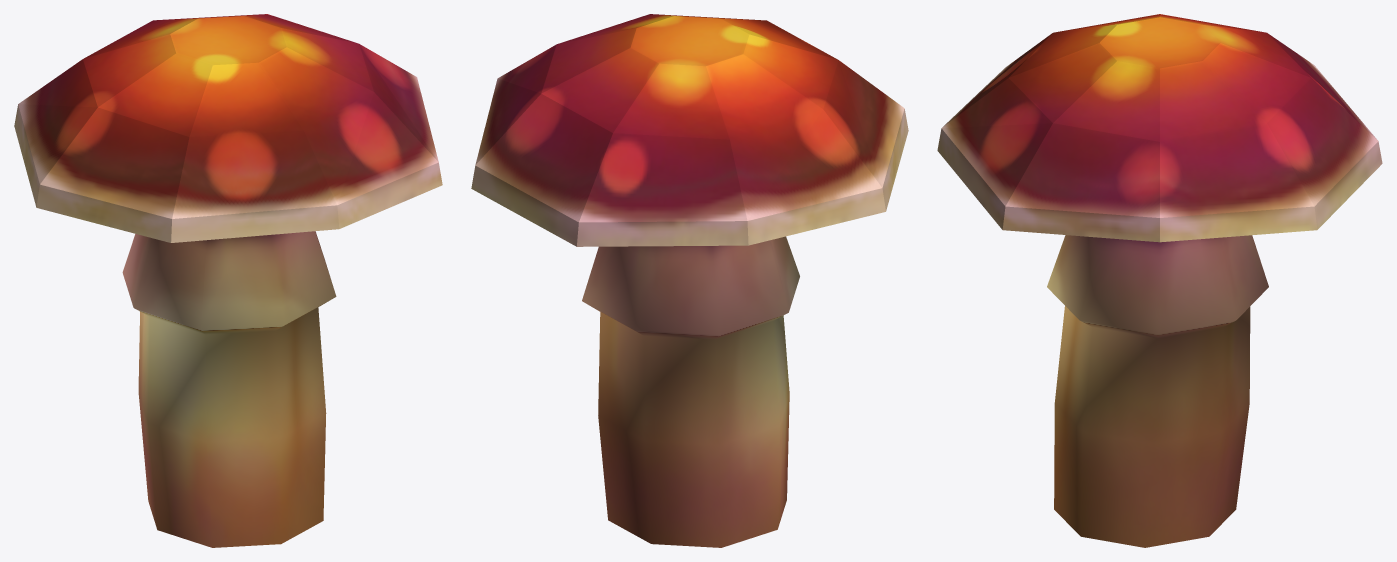
The picture shows the model from 3 angles, left to right: view 1: azimuth 30°, elevation 25°; view 2: azimuth 150°, elevation 25°; view 3: azimuth 270°, elevation 25°; orthographic projection. The views are drawn at different scales.
Visible parts, largest first — view 1: Hongo003; view 2: Hongo003; view 3: Hongo003.
Boxes of the visible parts, bbox=[...] form: Hongo003: bbox=[14, 14, 442, 547]; Hongo003: bbox=[471, 14, 908, 547]; Hongo003: bbox=[937, 14, 1382, 547].
Bounding box in the file's own units: 46.76 × 54.08 × 46.76.
